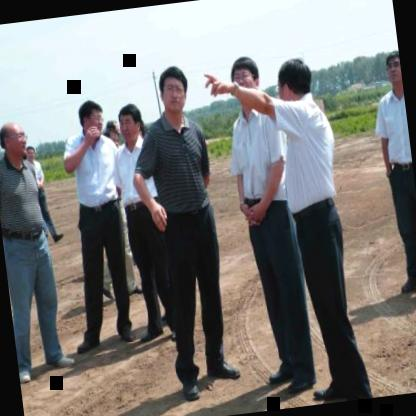head: (272, 51, 318, 111), (152, 60, 194, 123), (225, 50, 265, 104), (74, 95, 108, 144), (114, 99, 147, 149), (0, 116, 28, 162), (380, 45, 403, 95), (100, 118, 122, 156)
